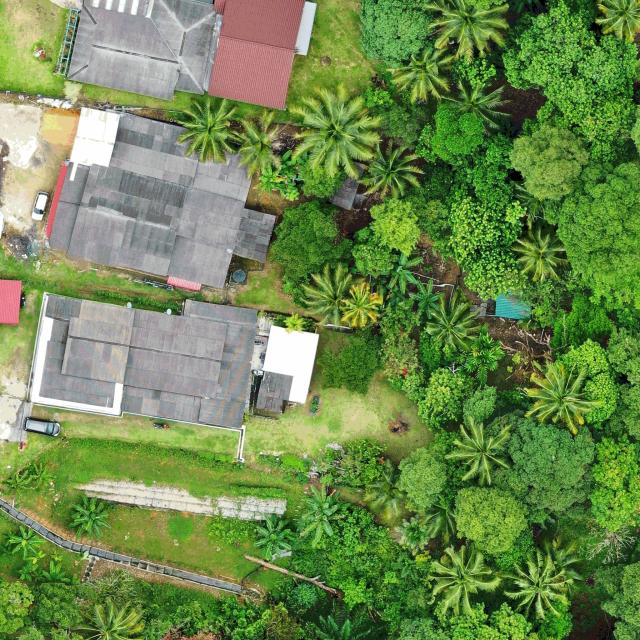0: (287, 82, 385, 181), (521, 358, 599, 434), (421, 0, 510, 65), (429, 543, 502, 618), (175, 94, 246, 164), (446, 417, 514, 486), (502, 547, 565, 620), (297, 261, 365, 327), (354, 140, 425, 199), (386, 45, 455, 105), (440, 81, 510, 137), (231, 109, 286, 178), (511, 220, 568, 284), (423, 293, 482, 354), (529, 537, 584, 599), (368, 196, 423, 256), (72, 599, 145, 640), (595, 0, 639, 44), (351, 235, 396, 278), (342, 285, 382, 329)
banana_tree2: (296, 483, 350, 544), (252, 516, 296, 560), (386, 250, 426, 297), (71, 496, 112, 538), (409, 280, 445, 321), (7, 524, 43, 556), (252, 163, 284, 196), (37, 559, 71, 590), (28, 459, 56, 489), (15, 560, 39, 582), (277, 150, 297, 175)
tree: (546, 156, 640, 315), (536, 34, 640, 166), (496, 412, 596, 516), (500, 0, 596, 92), (448, 191, 526, 299), (269, 198, 354, 281), (509, 123, 589, 202), (453, 484, 527, 556), (358, 0, 434, 67), (589, 434, 640, 530), (564, 339, 618, 426), (379, 299, 423, 402), (456, 134, 518, 206), (414, 104, 485, 166), (549, 288, 615, 352), (318, 332, 381, 397), (416, 364, 473, 431), (396, 447, 448, 514), (29, 581, 99, 630), (340, 437, 386, 487), (373, 103, 428, 140), (0, 578, 35, 636), (449, 56, 497, 85), (462, 384, 497, 420)
